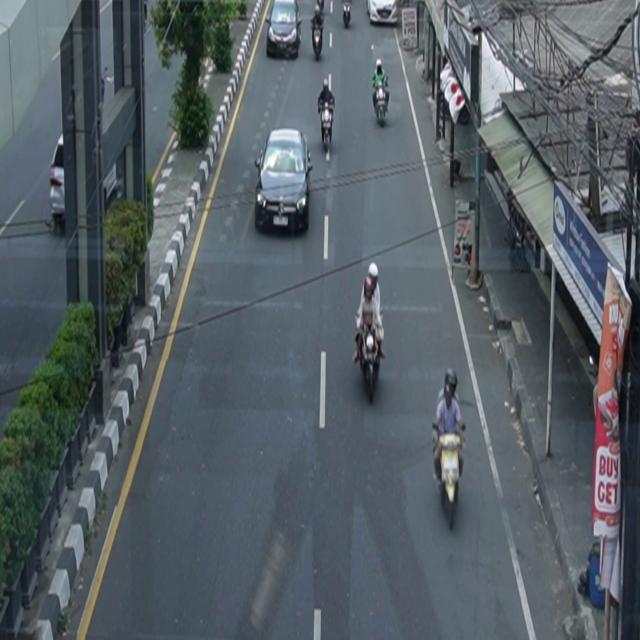car: (255, 128, 314, 235), (266, 1, 303, 60), (367, 1, 398, 26)
